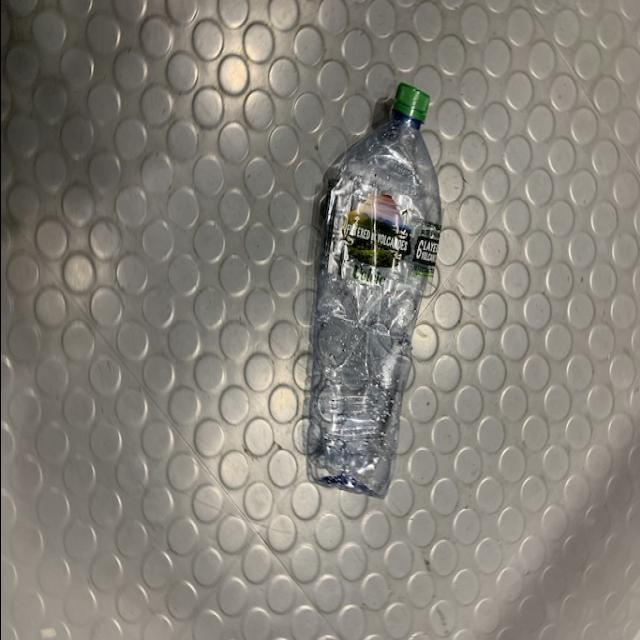PET: (306, 82, 442, 502)
